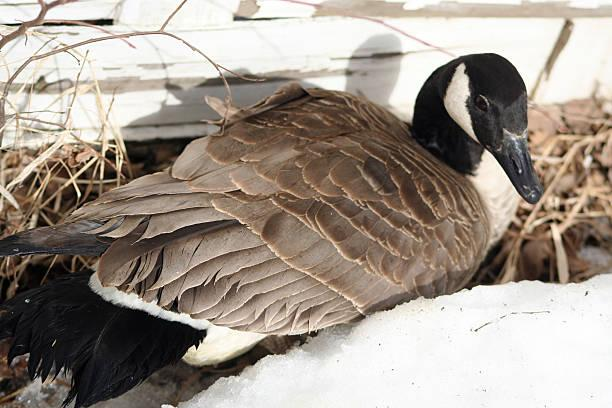Canadian-Goose: (0, 50, 541, 365)
